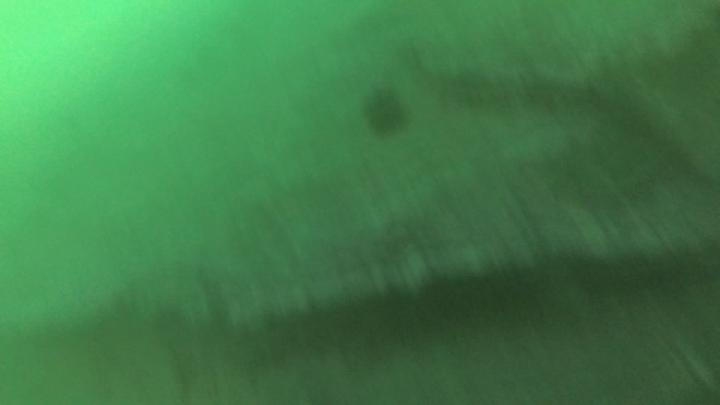echinus: (359, 84, 412, 139)
